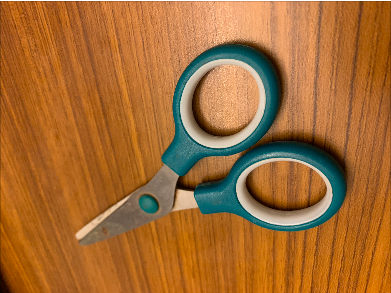object_name: (99, 67, 324, 239)
